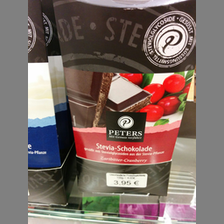chocolate: (53, 1, 195, 195)
